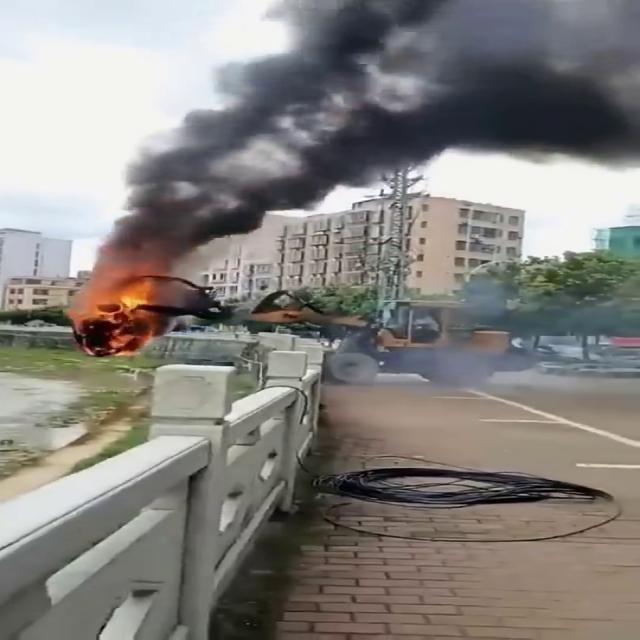Fire: (66, 270, 165, 360)
Smoke: (106, 1, 636, 264)
